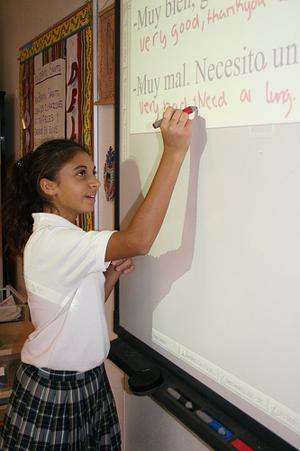person: (5, 106, 192, 450)
